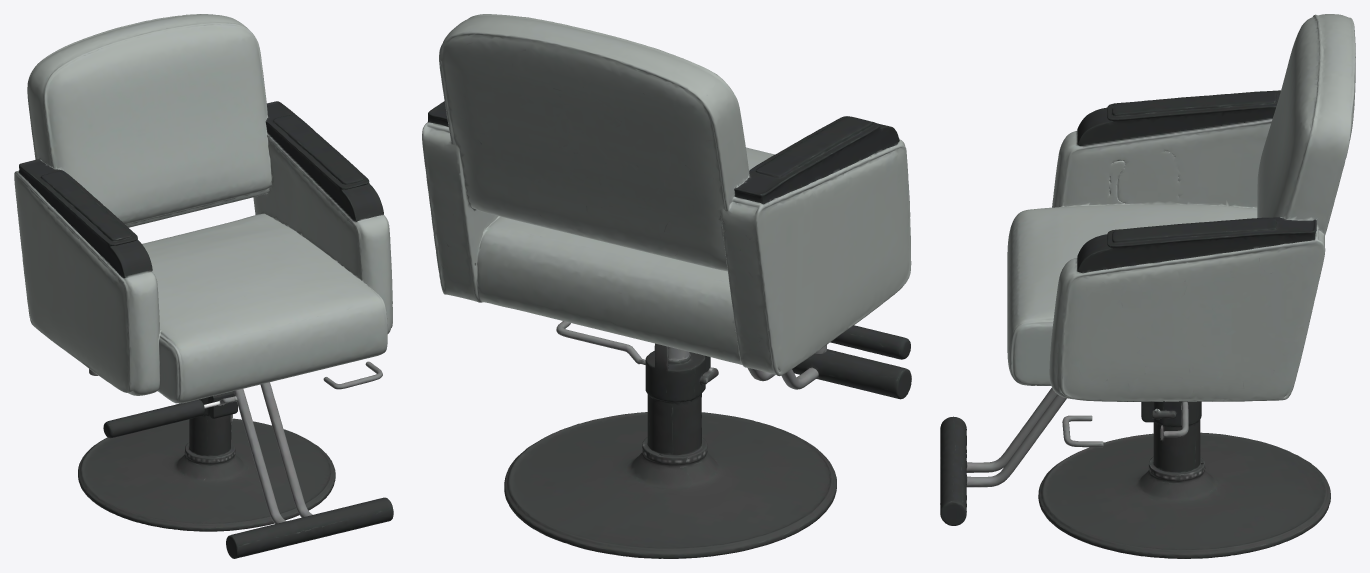
Rendered from nova-chair.glb.
3 renders of one model, left to right at view 1: azimuth 30°, elevation 25°; view 2: azimuth 150°, elevation 25°; view 3: azimuth 270°, elevation 25°, orthographic. The views are drawn at different scales.
Visible parts, largest first — view 1: world; view 2: world; view 3: world.
Part boxes in pixels (left/top/right/bottom): world: left=14, top=14, right=393, bottom=558; world: left=422, top=14, right=911, bottom=558; world: left=940, top=14, right=1355, bottom=558.
Bounding box in the file's own units: 0.7199 × 1 × 0.8407.
1 material, 1 textured.
